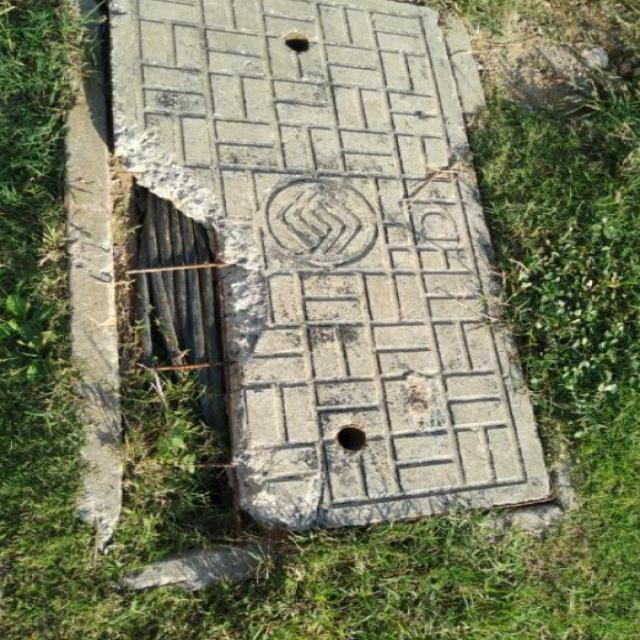Broken: (29, 0, 594, 580)
